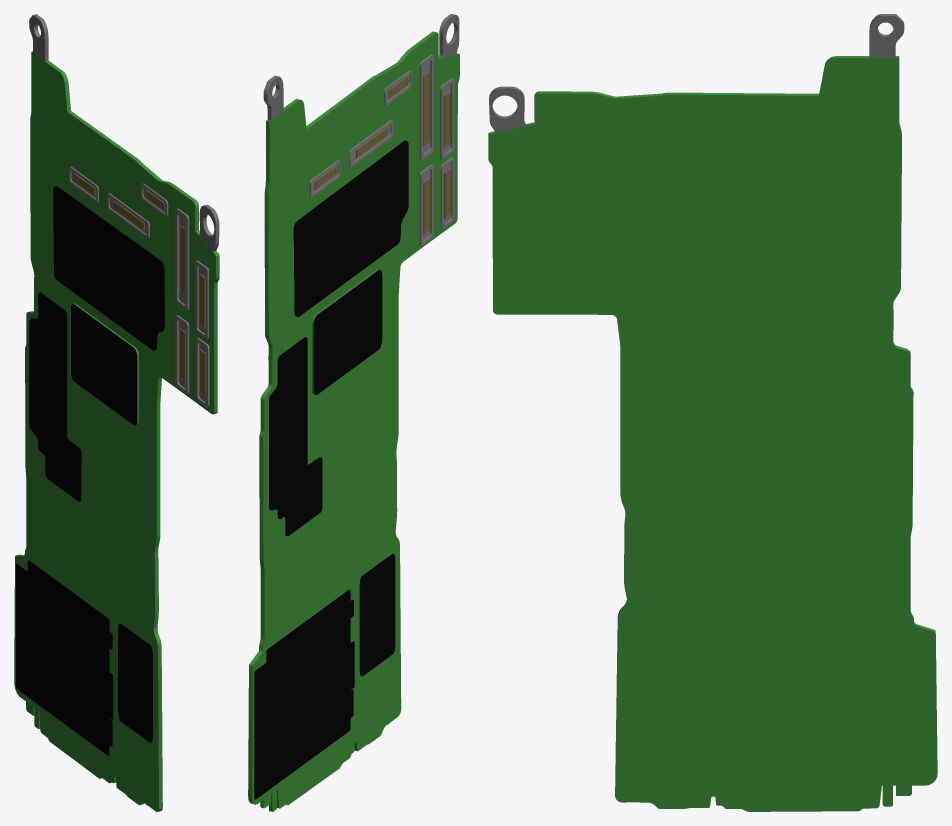
Rendered from bagian 1_Scene_Scene_Collection.fbx.
The picture shows the model from 3 angles, left to right: view 1: azimuth 30°, elevation 25°; view 2: azimuth 150°, elevation 25°; view 3: azimuth 270°, elevation 25°; orthographic projection. The views are drawn at different scales.
Visible parts, largest first — view 1: Cube.012, Cube.030, Cube.031, Cube.029, Cube.015, Cube.017, Cube.019, Cube.014, Cube.013, Cube.021, Cube.025, Cube.016; view 2: Cube.012, Cube.030, Cube.031, Cube.029, Cube.015, Cube.017, Cube.019, Cube.014, Cube.013, Cube.021, Cube.025, Cube.016 (+3 smaller); view 3: Cube.012, Cube.014, Cube.013.
Part boxes in pixels (x1,y1,x2,y2): Cube.012: (14, 51, 219, 811); Cube.030: (16, 560, 113, 755); Cube.031: (29, 292, 81, 501); Cube.029: (118, 623, 152, 742); Cube.015: (175, 208, 189, 310); Cube.017: (175, 315, 189, 393); Cube.019: (195, 260, 208, 339); Cube.014: (29, 14, 48, 61); Cube.013: (199, 205, 219, 251); Cube.021: (195, 338, 209, 406); Cube.025: (107, 193, 149, 238); Cube.016: (179, 225, 185, 297); Cube.012: (248, 31, 459, 811); Cube.030: (254, 589, 354, 799); Cube.031: (269, 337, 322, 536); Cube.029: (359, 553, 395, 676); Cube.015: (419, 54, 433, 159); Cube.017: (419, 164, 433, 245); Cube.019: (440, 78, 454, 159); Cube.014: (263, 75, 283, 120); Cube.013: (438, 14, 459, 58); Cube.021: (440, 157, 454, 228); Cube.025: (349, 120, 393, 167); Cube.016: (423, 72, 429, 145); Cube.012: (488, 56, 937, 811); Cube.014: (869, 14, 904, 57); Cube.013: (489, 86, 526, 132).
Size of the model in its own units: 2.82 by 363 by 186.
